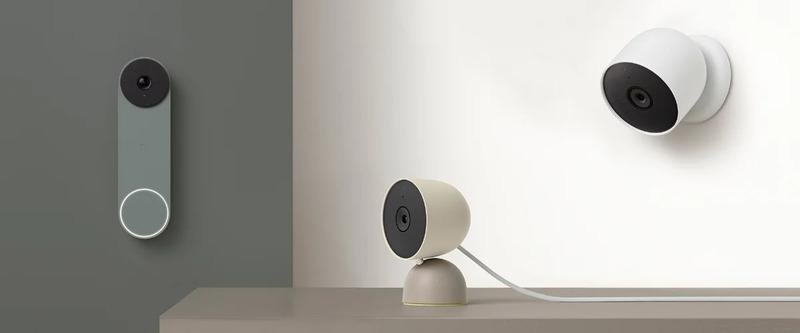bullet: (600, 26, 739, 142), (373, 171, 485, 307)
doorbell: (111, 54, 183, 248)
